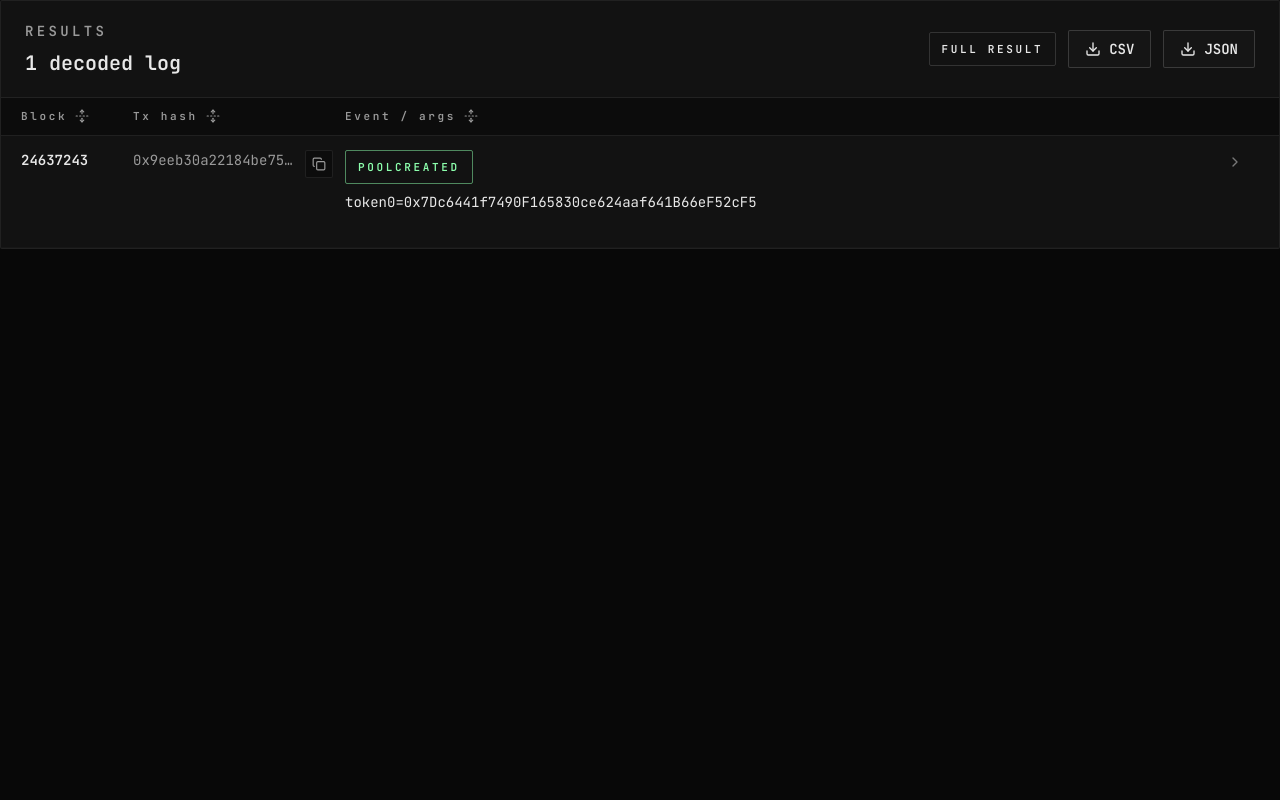
Test case: ResultsTable › opens a drawer when a row is clicked
Step 1. Click the 6th button → (640, 191), box [21,150,1259,232]
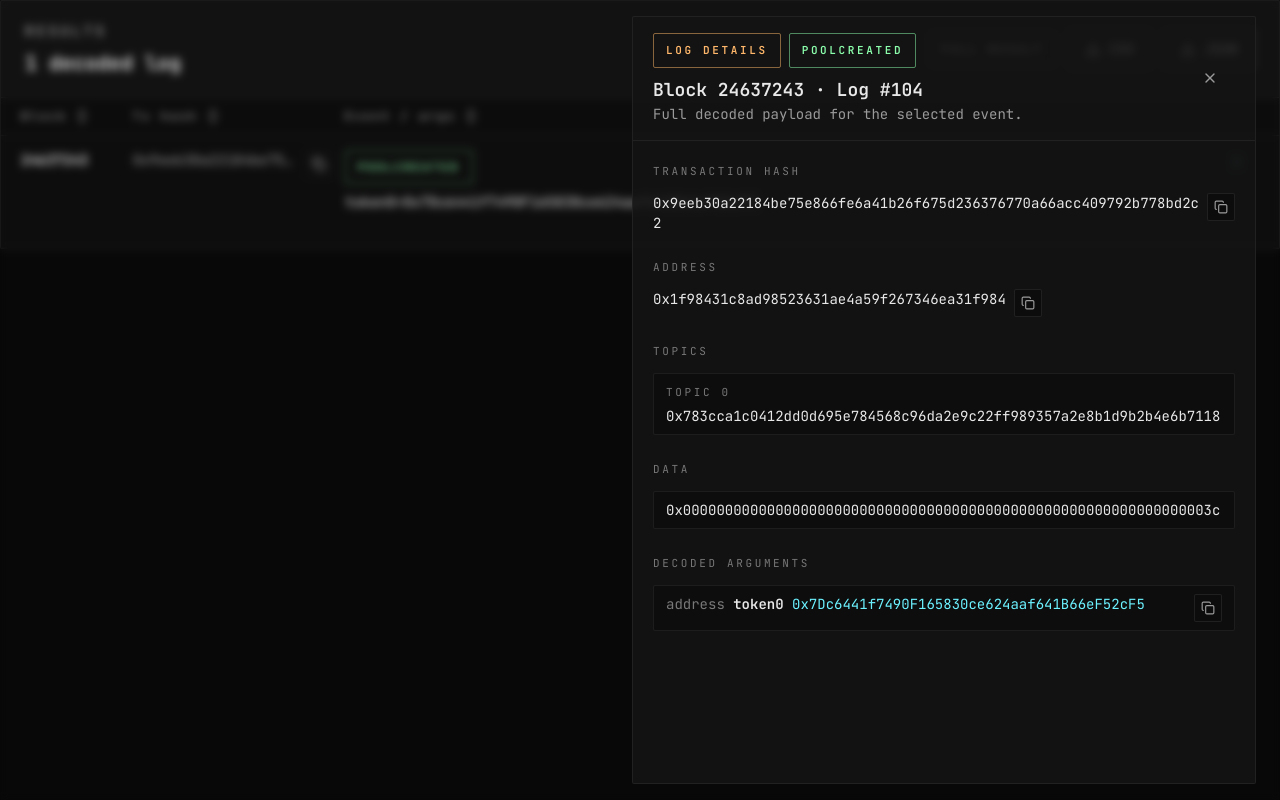
Expected: the text "PoolCreated" is shown, [345,150,473,184]
Expected: the text "Log details" is shown, [653,33,781,68]
Expected: the text "Transaction hash" is shown, [653,164,801,178]
